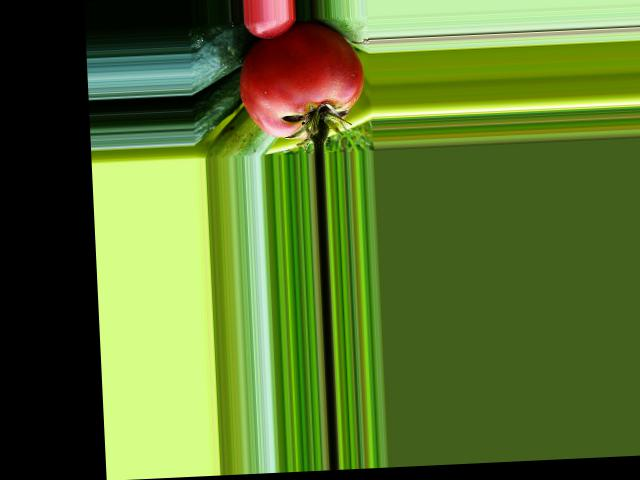tomato: (237, 18, 366, 139)
